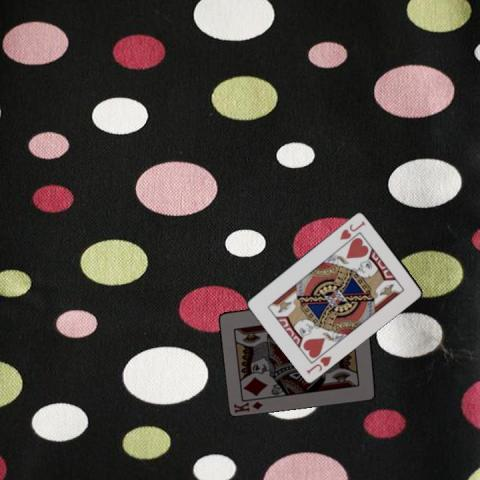Jh: (337, 217, 367, 241), (303, 353, 333, 375)
Kd: (231, 398, 264, 414)
